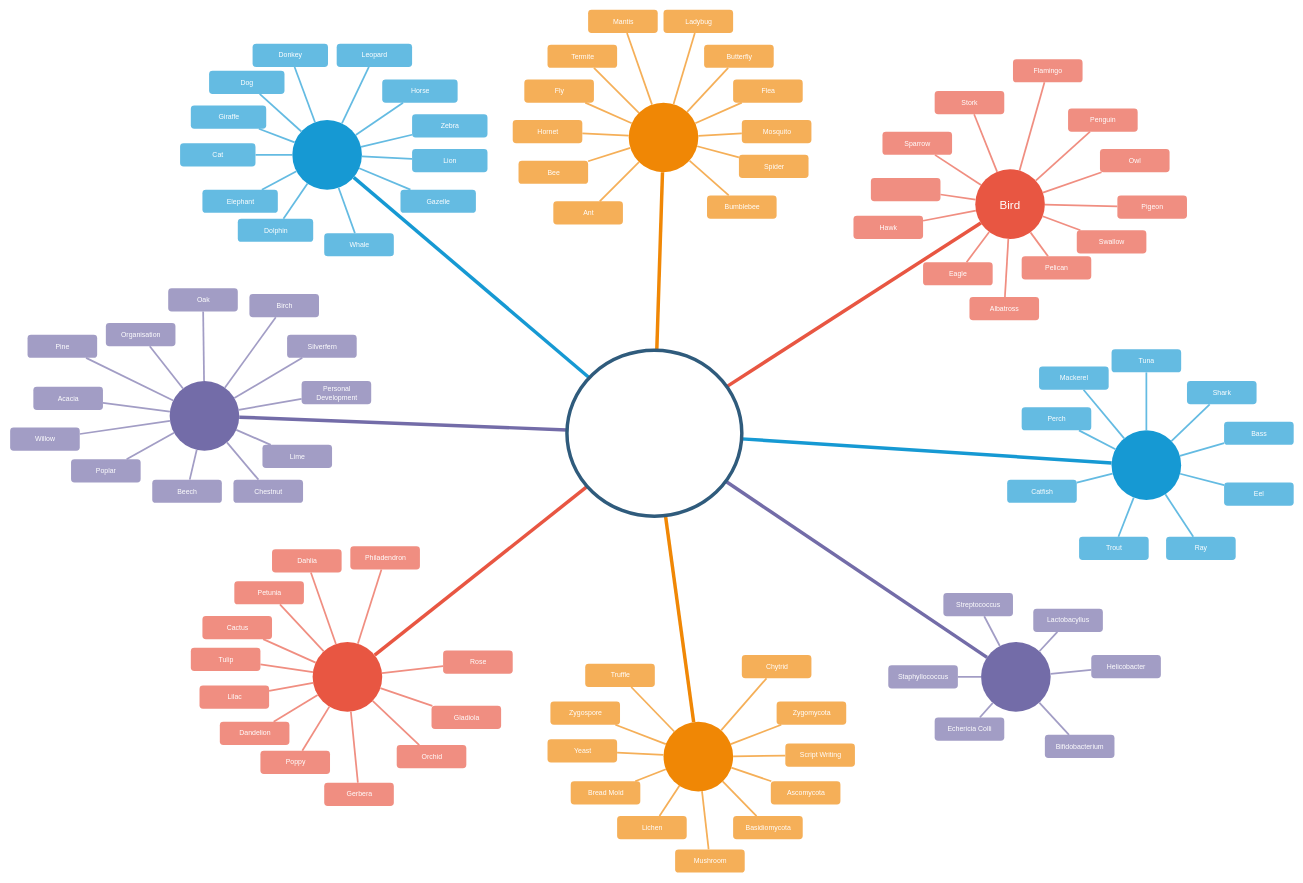
Image size: 1303x883. Some labels were removed from this diagram. The box of each missing label's shape, as (x1, y1, x2, y2) in pixels:
Bacteria: (981, 642, 1050, 711)
Falcon: (871, 178, 940, 201)
Fish: (1111, 430, 1181, 500)
Flower: (312, 642, 382, 711)
Fungi: (663, 722, 733, 791)
Insect: (628, 102, 698, 172)
JAVA: (565, 348, 743, 518)
Mammal: (292, 120, 362, 189)
Tree: (169, 381, 239, 450)
